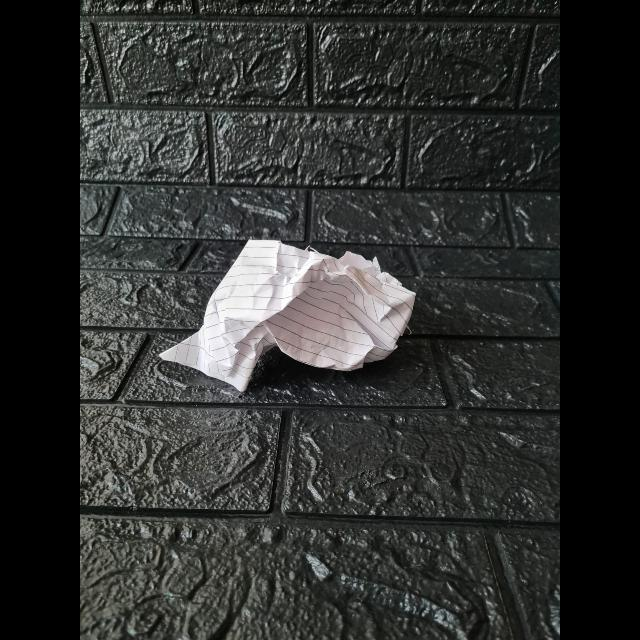scrap_paper: (178, 243, 418, 391)
